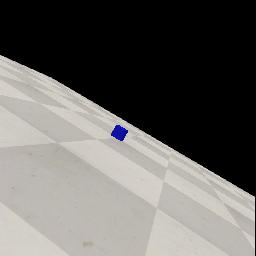box: (111, 125, 128, 141)
